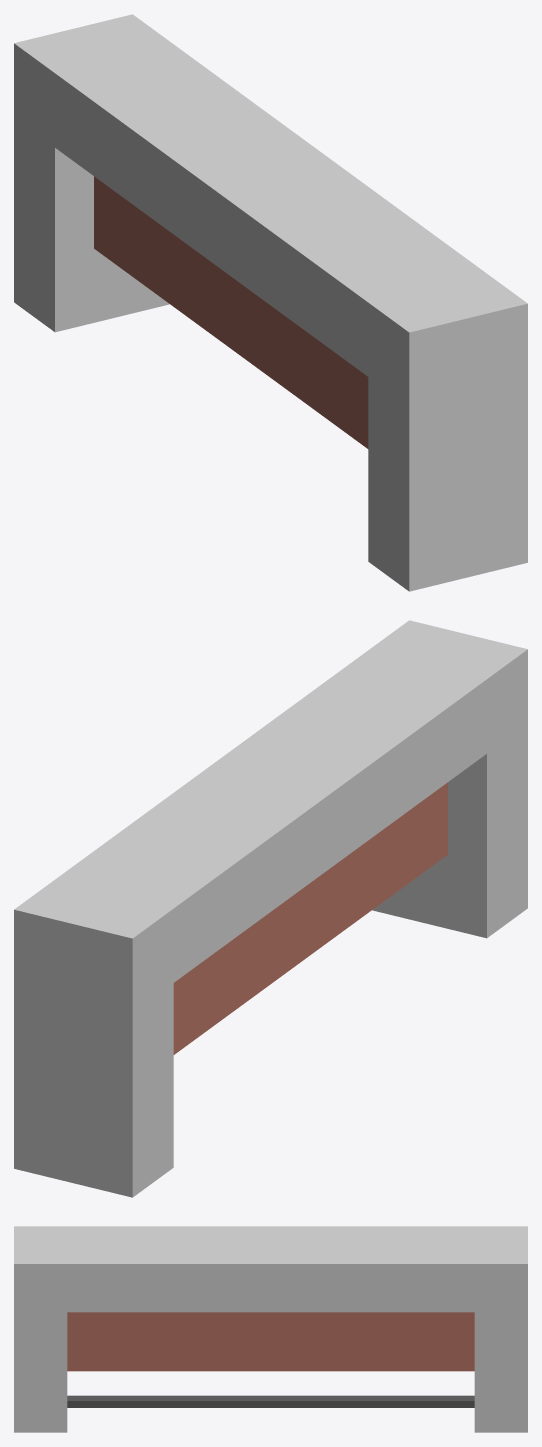
Rendered from Bar.fbx.
The picture shows the model from 3 angles, top to bottom: view 1: azimuth 30°, elevation 25°; view 2: azimuth 150°, elevation 25°; view 3: azimuth 270°, elevation 25°; orthographic projection. The views are drawn at different scales.
Visible parts, largest first — view 1: bar; view 2: bar; view 3: bar.
Part boxes in pixels (x1,y1,x2,y2): bar: (14,14,527,591); bar: (14,620,527,1197); bar: (14,1226,527,1432).
Bounding box in the file's own units: 334 × 696 × 1926.
